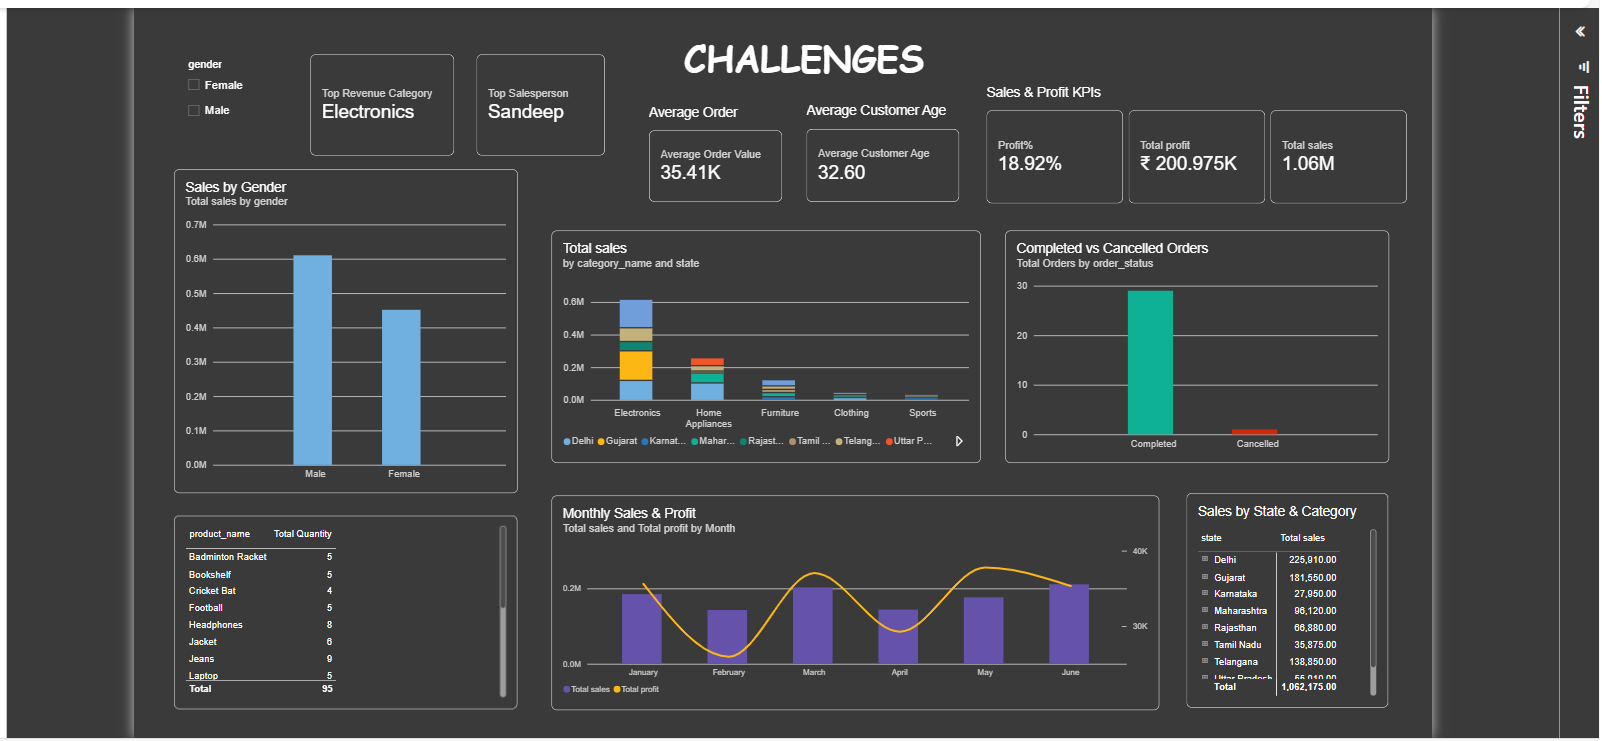

Layout of this report page (visuals, bound fields, positions):
{"tool":"powerbi","page":{"name":"Chanllenges","canvas":[1920,1080],"ordinal":1},"visuals":[{"type":"slicer","fields":{"Values":["powerbi_practice customers.gender"]},"box":[72.4,74.2,146.6,126.7],"z":0},{"type":"cardVisual","fields":{"Data":["Parameter.Top Revenue Category"]},"box":[260.6,68.8,214,150.4],"z":1},{"type":"cardVisual","fields":{"Data":["Parameter.Top Salesperson"]},"box":[506.7,68.8,190.8,150.4],"z":2},{"type":"cardVisual","title":"Average Order","fields":{"Data":["Parameter.Average Order Value"]},"box":[761.9,143,197.3,144.8],"z":3},{"type":"cardVisual","title":"Average Customer Age","fields":{"Data":["Parameter.Average Customer Age"]},"box":[995.3,141.2,226.2,146.6],"z":4},{"type":"cardVisual","title":"Sales & Profit KPIs","fields":{"Data":["powerbi_practice categories.Profit%","powerbi_practice categories.Total profit","powerbi_practice categories.Total sales"]},"box":[1262.1,112.1,622.7,176.6],"z":5},{"type":"tableEx","fields":{"Values":["powerbi_practice products.product_name","Parameter.Total Quantity"]},"box":[59.6,751.6,508.2,286.3],"z":6},{"type":"columnChart","fields":{"Category":["powerbi_practice categories.category_name"],"Series":["powerbi_practice customers.state"],"Y":["powerbi_practice categories.Total sales"]},"box":[618,329.3,635.2,343.8],"z":7},{"type":"clusteredColumnChart","title":"Completed vs Cancelled Orders","fields":{"Category":["powerbi_practice orders.order_status"],"Y":["Parameter.Total Orders"]},"box":[1288.5,329.4,568.2,343.8],"z":8},{"type":"clusteredColumnChart","title":"Sales by Gender","fields":{"Category":["powerbi_practice customers.gender"],"Y":["powerbi_practice categories.Total sales"]},"box":[59.6,238.6,508.5,479.6],"z":9},{"type":"lineClusteredColumnComboChart","title":"Monthly Sales & Profit","fields":{"Category":["powerbi_practice orders.order_date.Variation.Date Hierarchy.Month"],"Y":["powerbi_practice categories.Total sales"],"Y2":["powerbi_practice categories.Total profit"]},"box":[618,720.5,899.5,317.3],"z":10},{"type":"pivotTable","title":"Sales by State & Category","fields":{"Rows":["powerbi_practice customers.state","powerbi_practice categories.category_name"],"Values":["powerbi_practice categories.Total sales"]},"box":[1558,718.2,298.2,317.3],"z":11},{"type":"textbox","title":"CHALLENGES","box":[814.3,36.2,446.2,76.3],"z":12}]}

Visuals, with their boxes on the page's 1920x1080 design canvas (x1, y1, x2, y2). These are canvas units, not pixel positions in the 1602x741 screenshot, which may show the page scaled, cropped or inside an application window:
slicer - powerbi_practice customers.gender: [x1=72, y1=74, x2=219, y2=201]
cardVisual - Parameter.Top Revenue Category: [x1=261, y1=69, x2=475, y2=219]
cardVisual - Parameter.Top Salesperson: [x1=507, y1=69, x2=698, y2=219]
"Average Order" cardVisual: [x1=762, y1=143, x2=959, y2=288]
"Average Customer Age" cardVisual: [x1=995, y1=141, x2=1222, y2=288]
"Sales & Profit KPIs" cardVisual: [x1=1262, y1=112, x2=1885, y2=289]
tableEx - powerbi_practice products.product_name x Parameter.Total Quantity: [x1=60, y1=752, x2=568, y2=1038]
columnChart - powerbi_practice categories.category_name x powerbi_practice customers.state: [x1=618, y1=329, x2=1253, y2=673]
"Completed vs Cancelled Orders" clusteredColumnChart: [x1=1288, y1=329, x2=1857, y2=673]
"Sales by Gender" clusteredColumnChart: [x1=60, y1=239, x2=568, y2=718]
"Monthly Sales & Profit" lineClusteredColumnComboChart: [x1=618, y1=720, x2=1518, y2=1038]
"Sales by State & Category" pivotTable: [x1=1558, y1=718, x2=1856, y2=1036]
"CHALLENGES" textbox: [x1=814, y1=36, x2=1260, y2=112]
